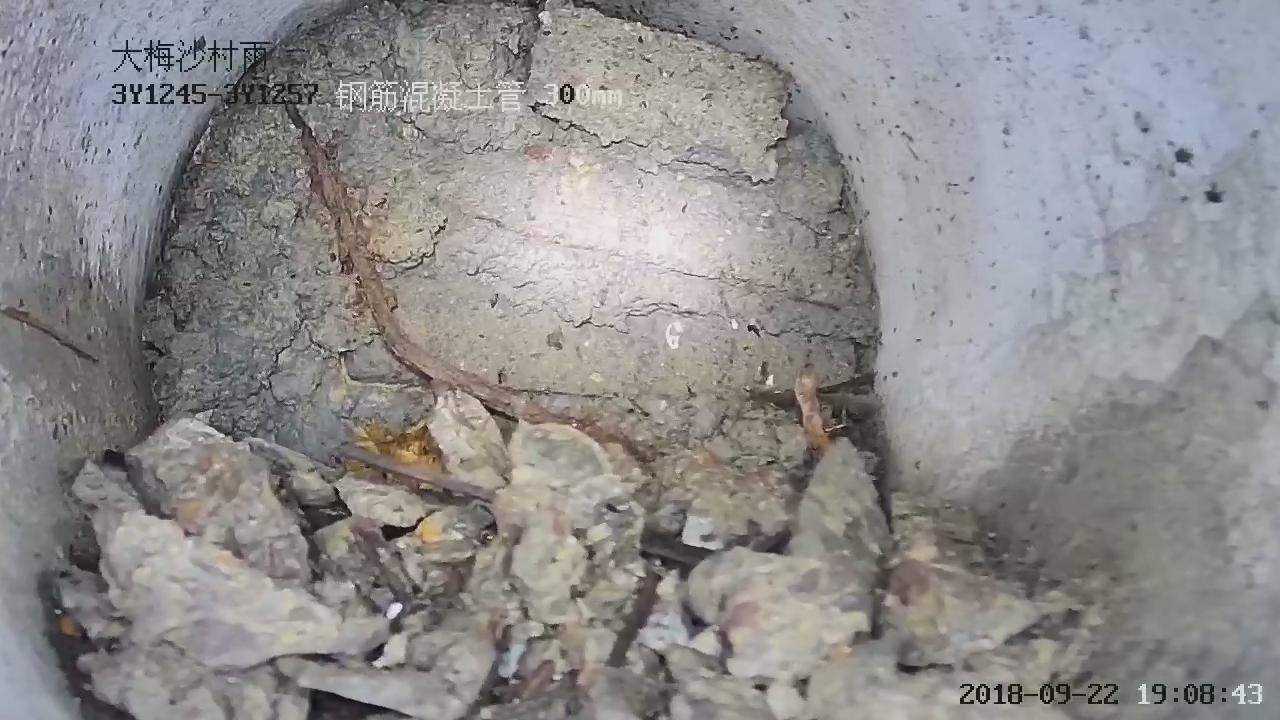CQBG: (143, 0, 876, 443)
